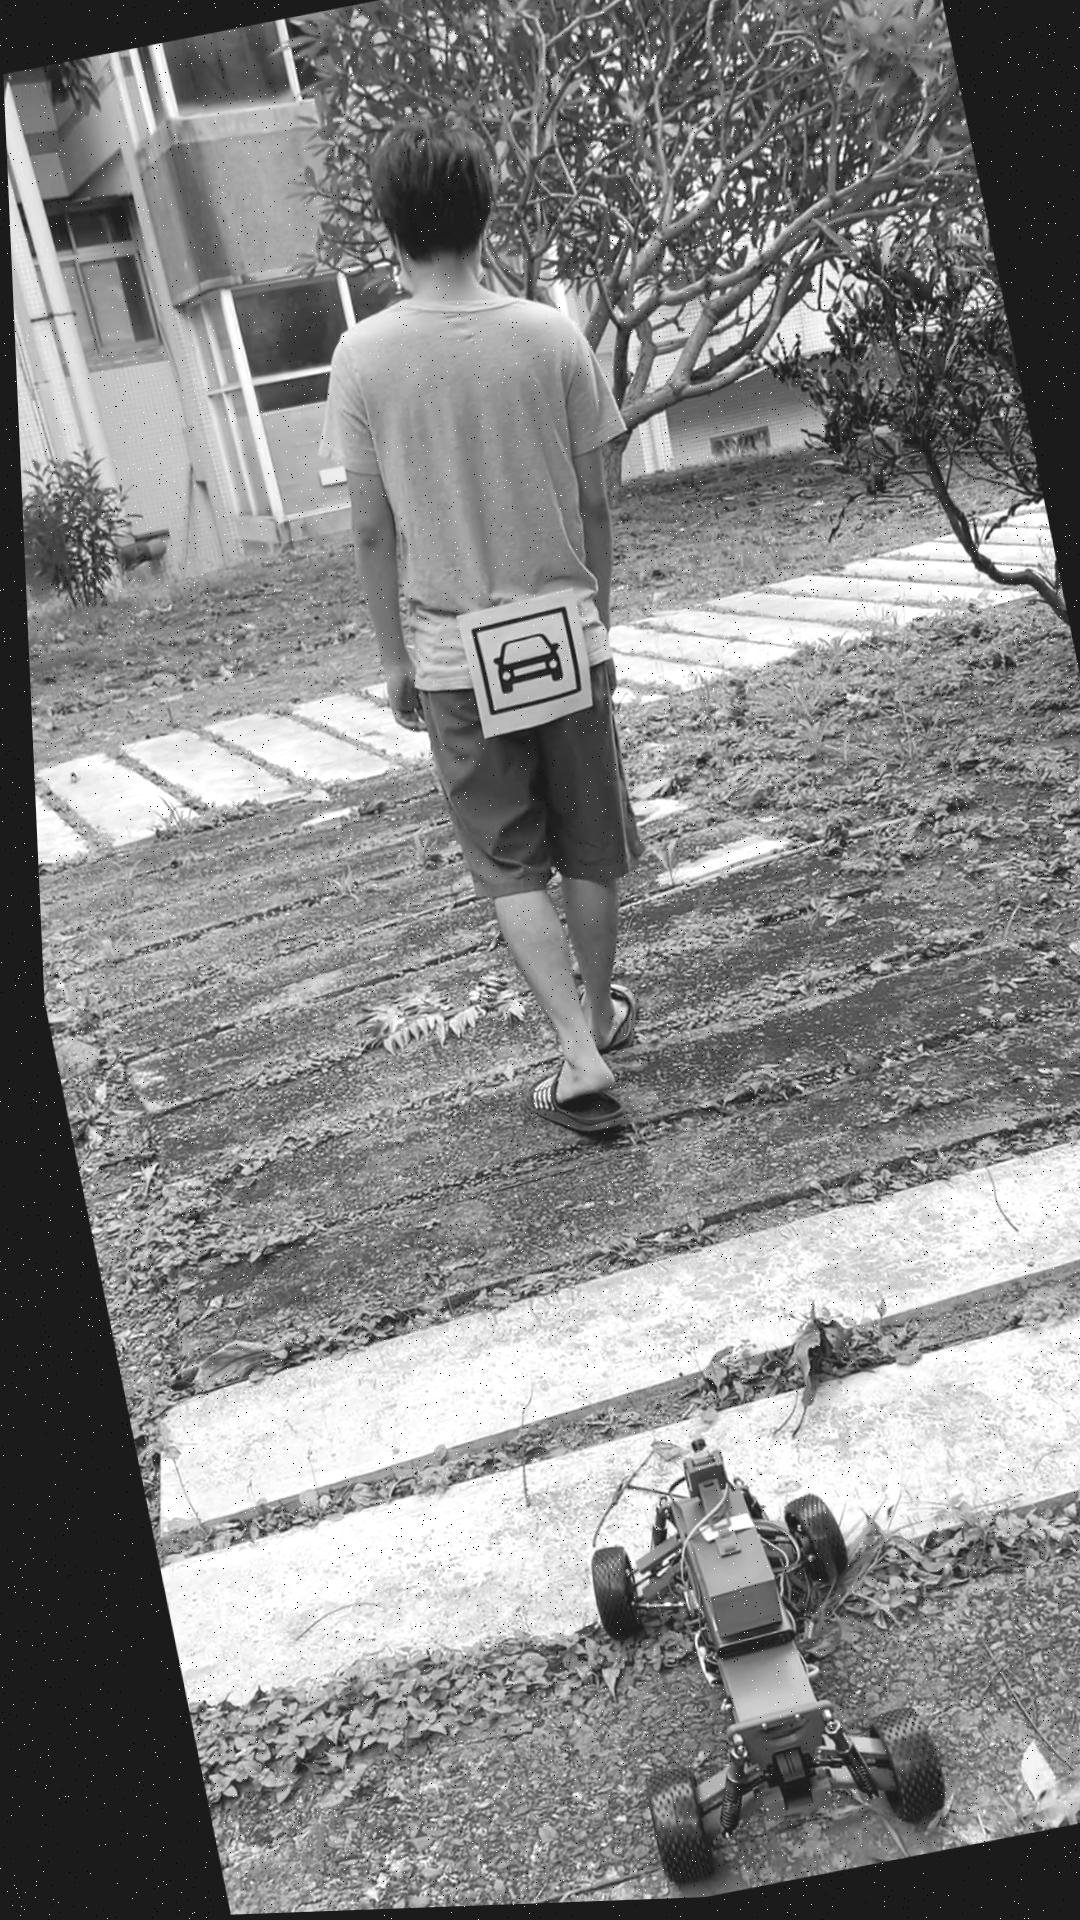car_img: (462, 608, 580, 720)
